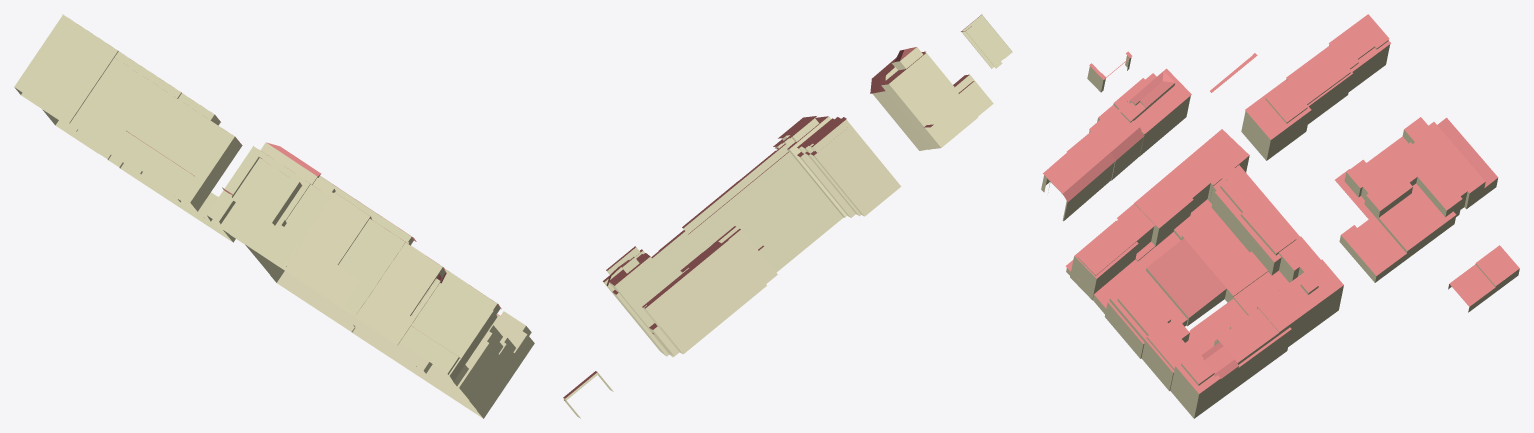
The model's file is tile_017.glb.
The picture shows the model from 3 angles, left to right: view 1: azimuth 30°, elevation 25°; view 2: azimuth 150°, elevation 25°; view 3: azimuth 270°, elevation 25°; orthographic projection. The views are drawn at different scales.
Visible parts, largest first — view 1: Batched_Building_ID_28B36F96-CE34-4B79-A481-722BAEC4266C, Batched_Building_ID_215647F6-8EFF-451E-A54A-3E0CF72941EA; view 2: Batched_Building_ID_28B36F96-CE34-4B79-A481-722BAEC4266C, Batched_Building_ID_215647F6-8EFF-451E-A54A-3E0CF72941EA; view 3: Batched_Building_ID_215647F6-8EFF-451E-A54A-3E0CF72941EA, Batched_Building_ID_28B36F96-CE34-4B79-A481-722BAEC4266C.
Part boxes in pixels (left/top/right/bottom): Batched_Building_ID_28B36F96-CE34-4B79-A481-722BAEC4266C: left=14, top=14, right=534, bottom=418; Batched_Building_ID_215647F6-8EFF-451E-A54A-3E0CF72941EA: left=62, top=14, right=501, bottom=358; Batched_Building_ID_28B36F96-CE34-4B79-A481-722BAEC4266C: left=563, top=15, right=1012, bottom=418; Batched_Building_ID_215647F6-8EFF-451E-A54A-3E0CF72941EA: left=563, top=14, right=981, bottom=400; Batched_Building_ID_215647F6-8EFF-451E-A54A-3E0CF72941EA: left=1043, top=14, right=1519, bottom=393; Batched_Building_ID_28B36F96-CE34-4B79-A481-722BAEC4266C: left=1041, top=40, right=1519, bottom=418.
Bounding box in the file's own units: 148 × 136 × 201.
